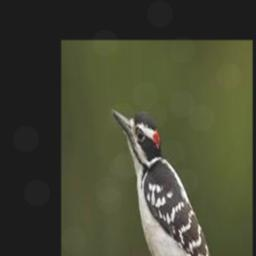Woodpecker: (112, 107, 225, 256)
